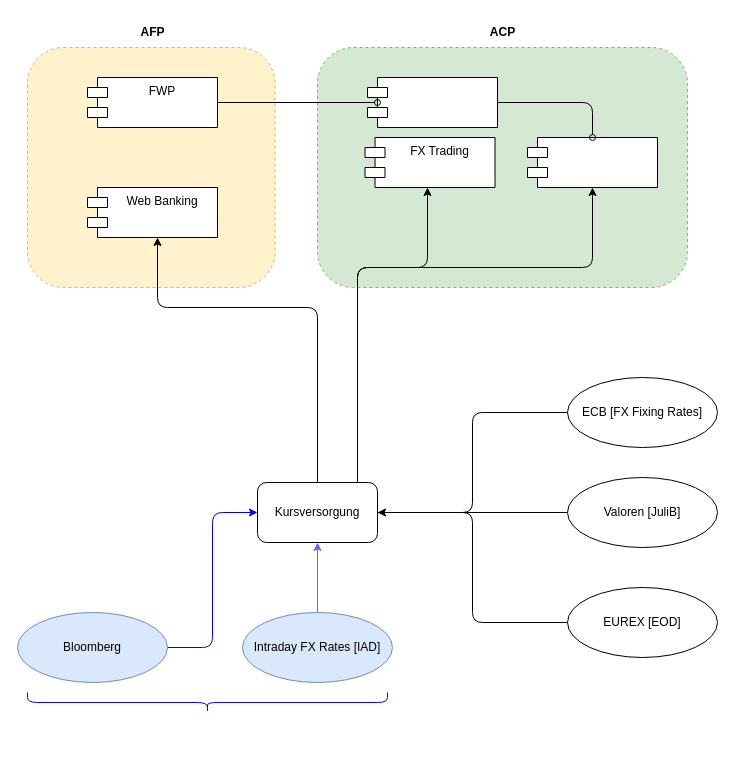
Image size: 735x759. Some labels were removed from this diagram. The centre of each missing label's shape, as x and y in pixels:
"Intraday" goes at (x=207, y=702).
"Rebalancer" goes at (x=432, y=102).
"Stock Exchange" goes at (x=592, y=162).
